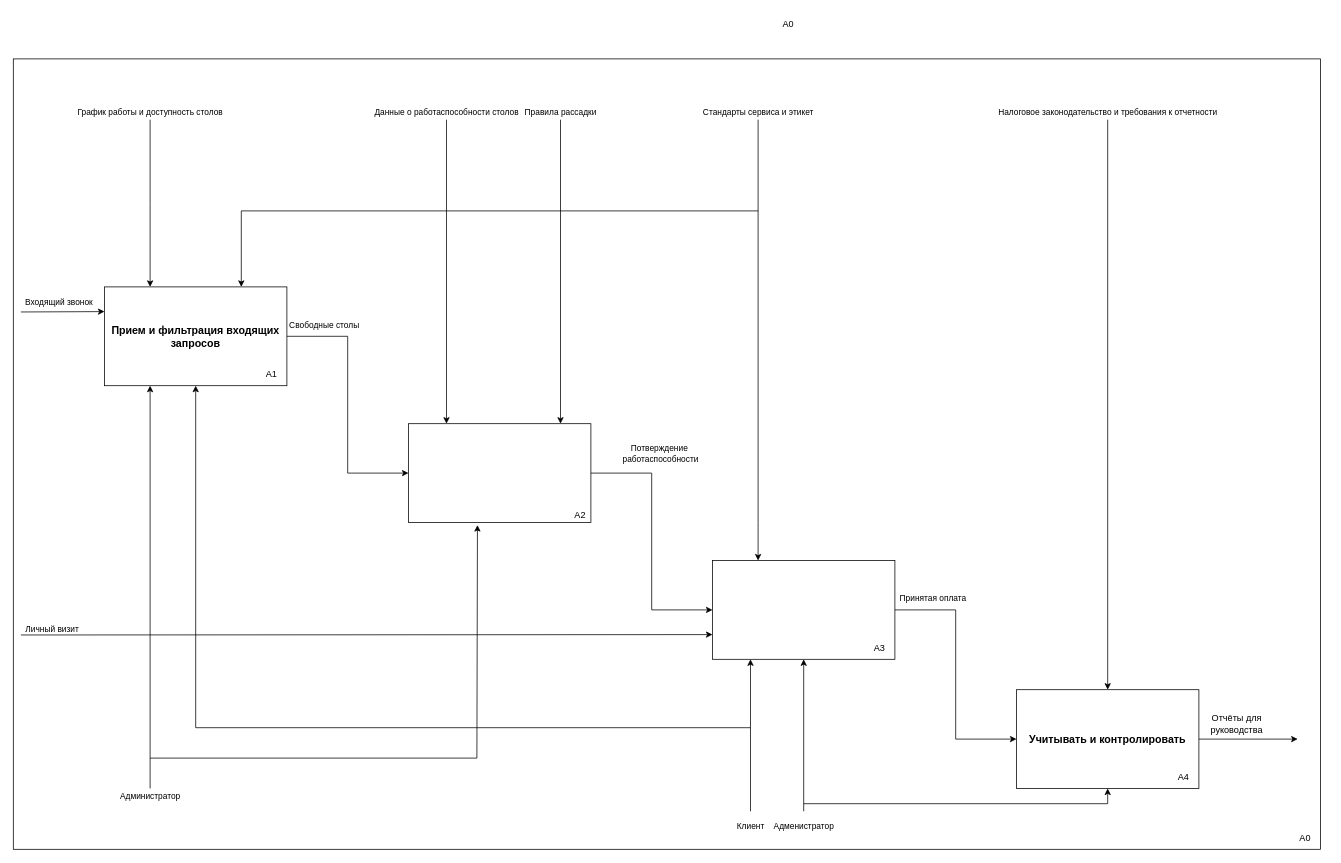
Some shapes in this 1341 by 863 pixel diagram are drawn without their labels. The box of each missing label's shape, as (x1, y1, x2, y2) in pixels:
Координация сервиса и обслуживание гостей: (712, 560, 895, 659)
Распределение столов: (408, 423, 591, 522)
